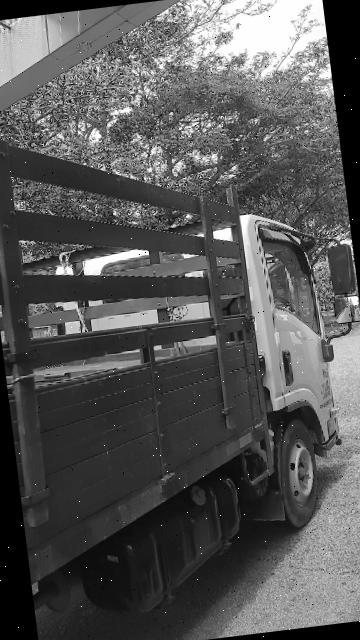lorry: (1, 75, 360, 640)
